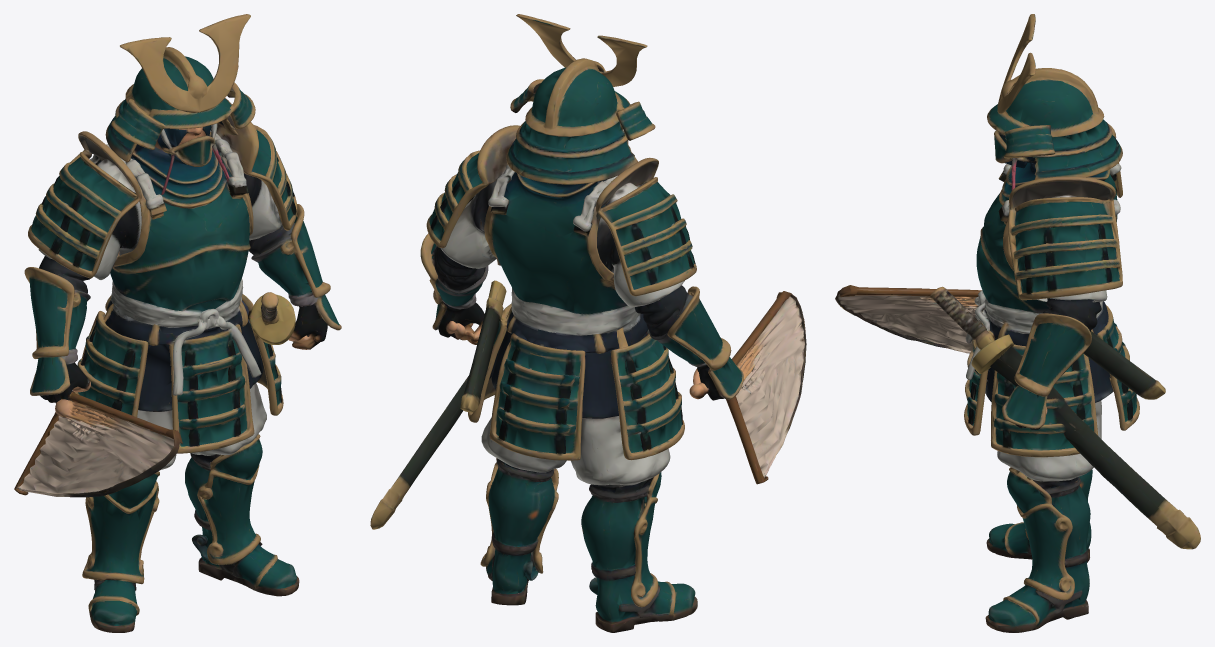
The model's file is detail_8.glb.
The picture shows the model from 3 angles, left to right: view 1: azimuth 30°, elevation 25°; view 2: azimuth 150°, elevation 25°; view 3: azimuth 270°, elevation 25°; orthographic projection. The views are drawn at different scales.
Size of the model in its own units: 0.5971 by 1 by 0.6089.
1 material, 1 textured.
